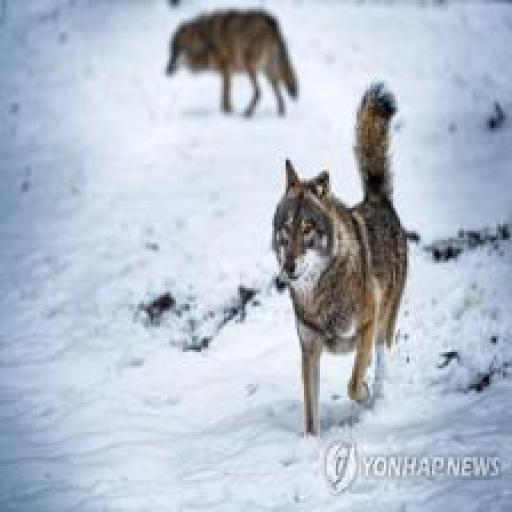wolf: (265, 76, 436, 460)
